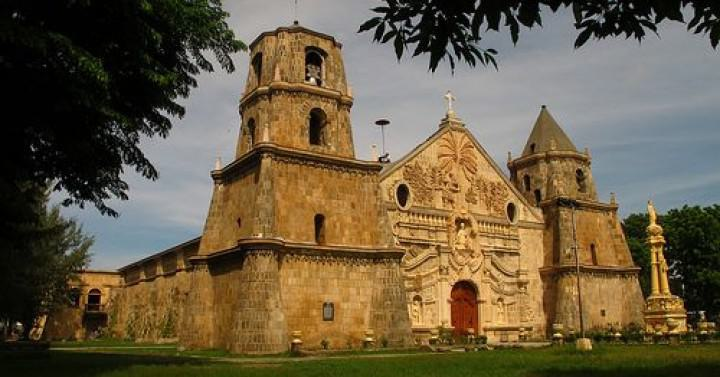Miagao Church: (203, 9, 648, 343)
